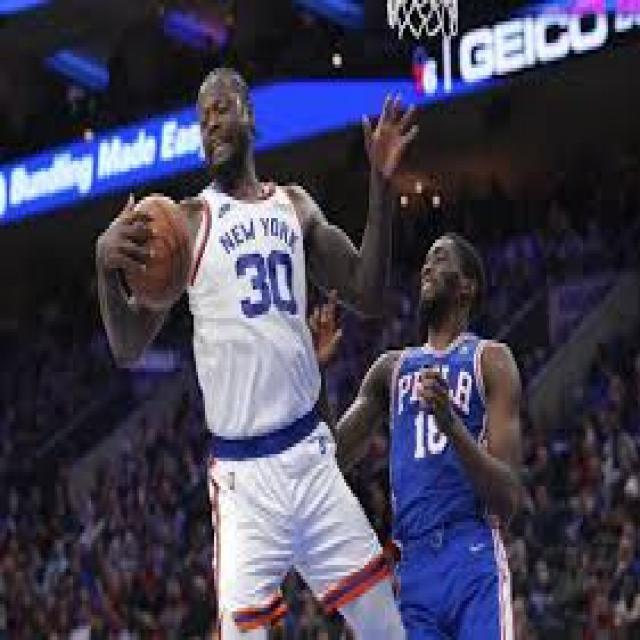rim: (123, 196, 189, 308)
